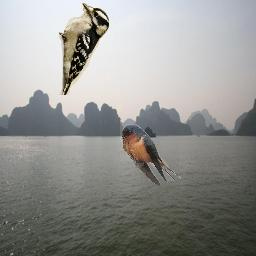Swallow: (120, 124, 181, 186)
Woodpecker: (59, 3, 109, 95)
